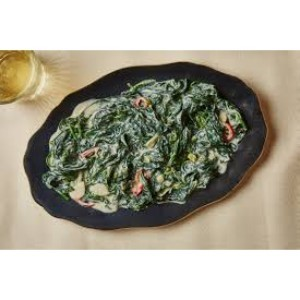spinach_brain food: (52, 79, 235, 214)
